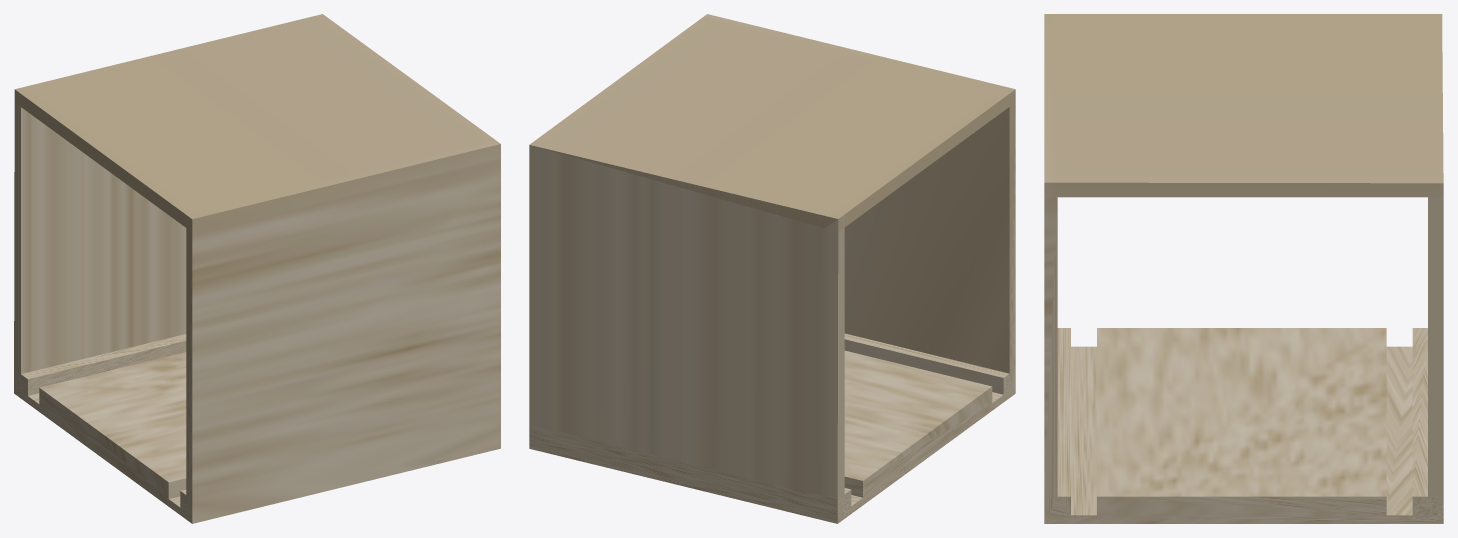
Rendered from ArrowBox.gltf.
3 views of the same model, side by side, from view 1: azimuth 30°, elevation 25°; view 2: azimuth 150°, elevation 25°; view 3: azimuth 270°, elevation 25° (orthographic). The views are drawn at different scales.
Parts seen in each view (by area): view 1: Cube.001; view 2: Cube.001; view 3: Cube.001.
Boxes of the visible parts, x1,y1,x2,y2 form: Cube.001: (14,14,500,523); Cube.001: (529,14,1015,523); Cube.001: (1044,14,1443,523).
Size of the model in its own units: 8 by 7.55 by 8.
1 material, 1 textured.
